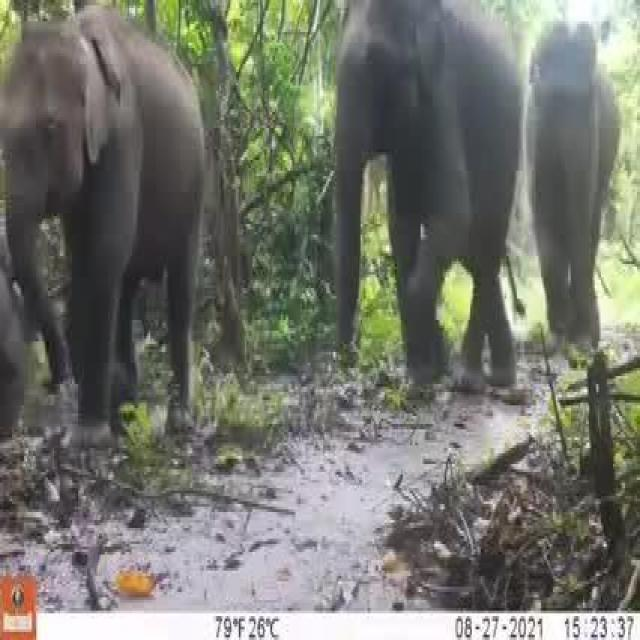Elephant: (4, 19, 205, 414), (334, 5, 523, 375), (529, 24, 624, 342)
